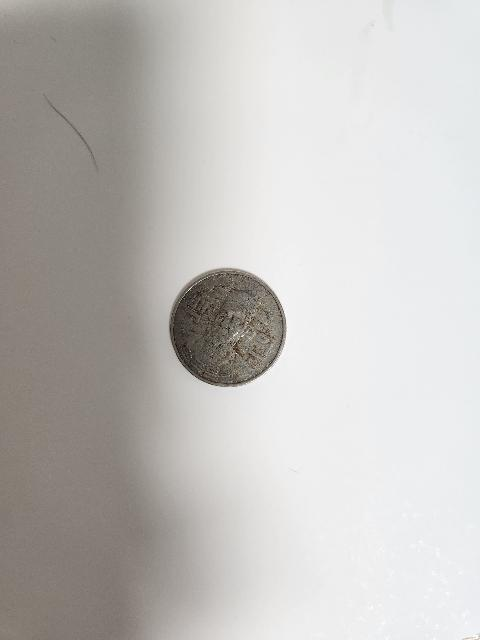coin: (166, 264, 286, 388)
